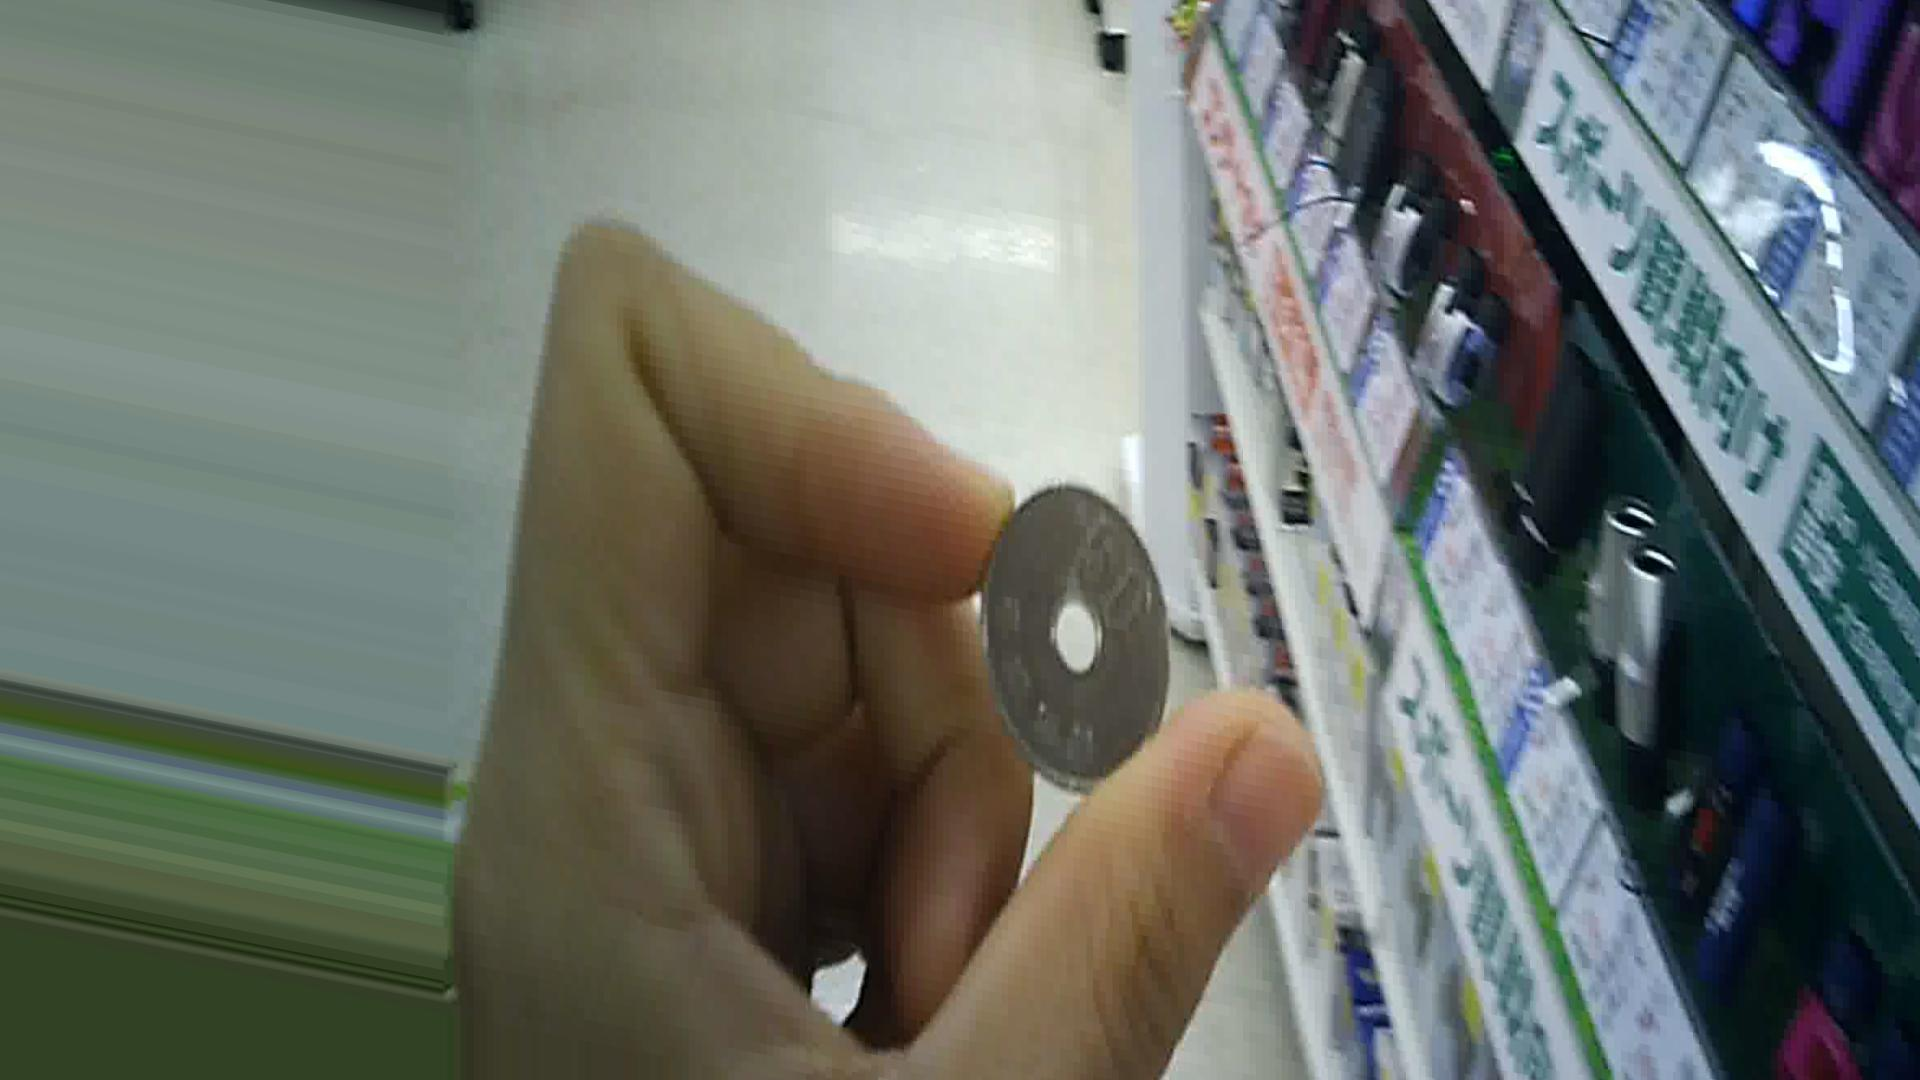50 Yen: (968, 480, 1191, 811)
